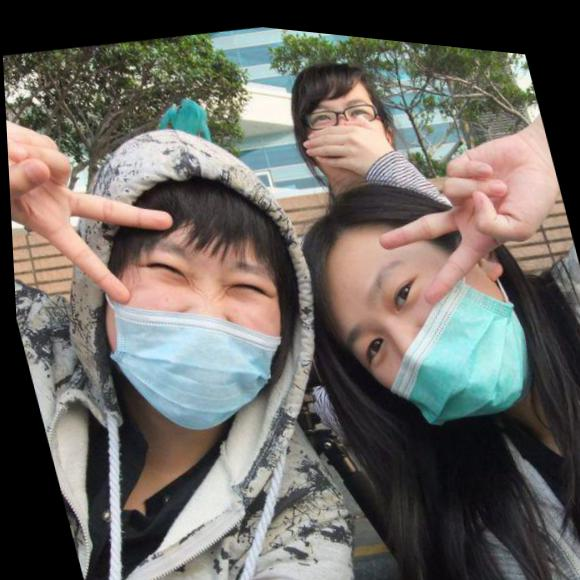NONE: (298, 75, 393, 185)
WRONG: (81, 184, 304, 438), (321, 201, 532, 432)
